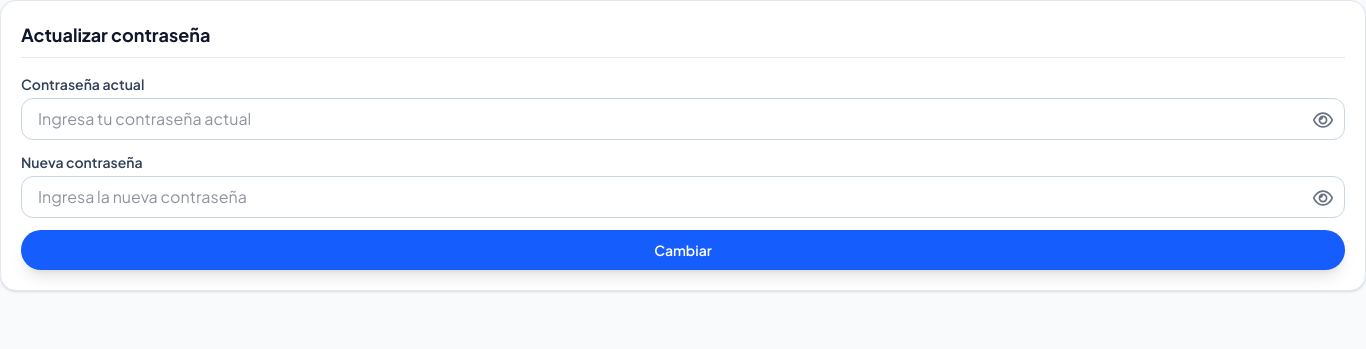
Test case: CardPassword › Debe mostrar errores cuando los campos están vacíos
This screenshot has width=1366, height=349.
Click the button showing "Cambiar". click: (683, 250)
box: x1=21 y1=230 x2=1345 y2=270
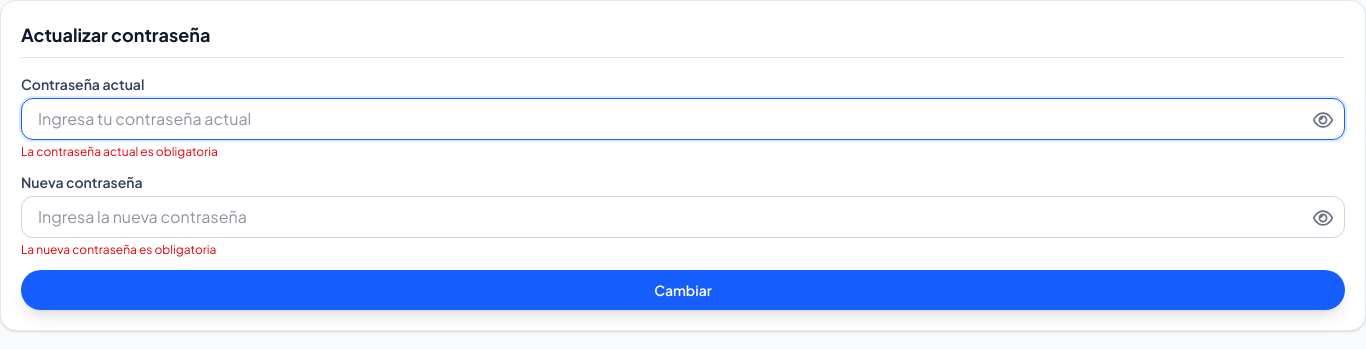
Expected: the text "La contraseña actual es obligatoria" is shown, x1=21 y1=144 x2=218 y2=159
Expected: the text "La nueva contraseña es obligatoria" is shown, x1=21 y1=242 x2=216 y2=257
